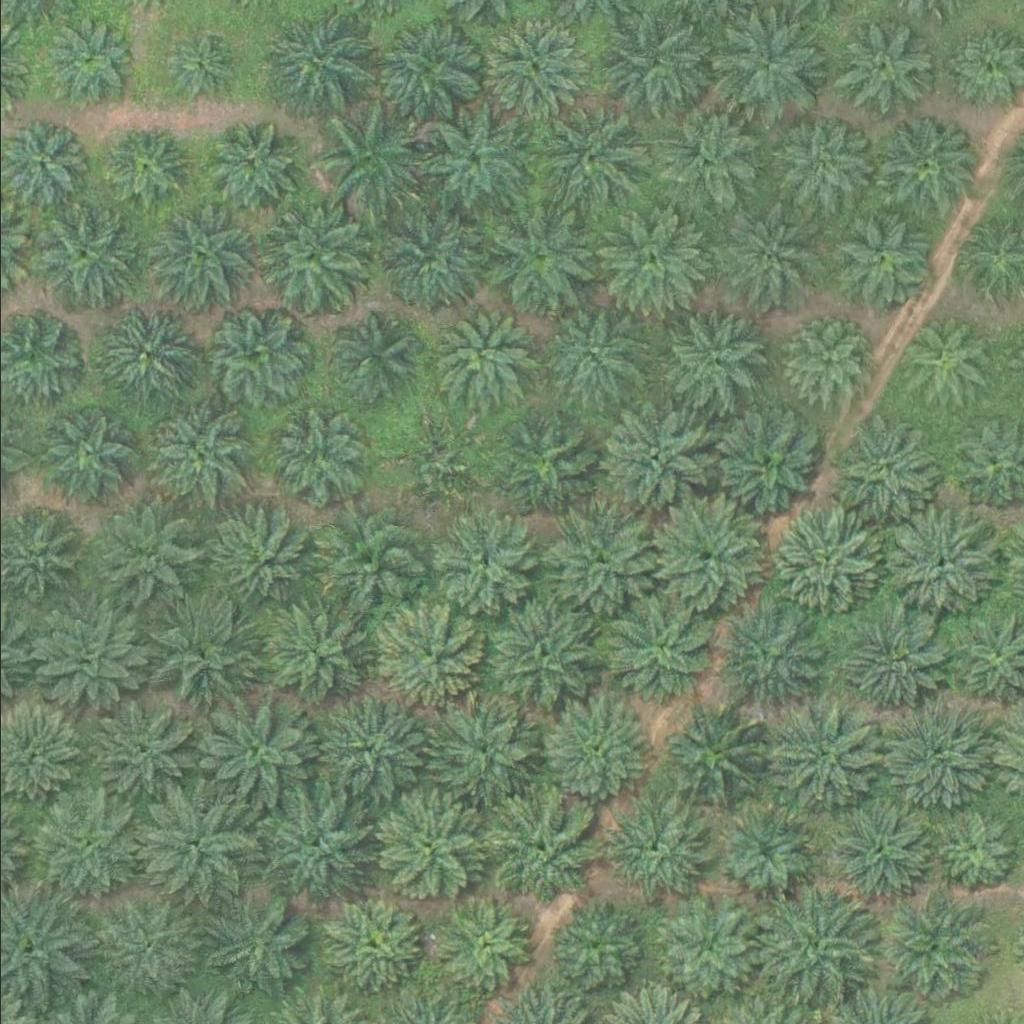Kelapa_Sawit: (654, 704, 768, 817), (829, 412, 943, 525), (368, 9, 482, 122), (602, 589, 716, 702), (536, 696, 650, 809), (483, 794, 597, 907), (372, 791, 486, 904), (200, 892, 314, 1005), (879, 700, 992, 813), (764, 701, 877, 814), (709, 404, 822, 517), (823, 202, 936, 315), (704, 11, 817, 124), (603, 10, 716, 123), (310, 102, 423, 215), (594, 403, 707, 516), (488, 406, 601, 519), (306, 504, 419, 617), (424, 692, 537, 805), (88, 889, 201, 1002), (257, 789, 370, 902), (135, 791, 248, 904), (33, 596, 146, 709), (257, 200, 370, 313), (145, 198, 258, 311), (30, 204, 143, 317), (714, 599, 828, 711), (883, 509, 997, 621), (762, 505, 876, 617), (875, 892, 988, 1004), (753, 891, 866, 1003), (817, 794, 930, 906), (832, 604, 945, 716), (710, 205, 823, 317), (866, 109, 979, 221), (534, 103, 647, 215), (419, 102, 532, 214), (595, 203, 708, 315), (480, 202, 593, 314), (369, 205, 482, 317), (648, 500, 761, 612), (544, 505, 657, 617), (426, 506, 539, 618), (485, 601, 598, 713), (370, 602, 483, 714), (317, 699, 430, 811), (29, 792, 142, 904), (198, 697, 311, 809), (87, 694, 200, 806), (254, 597, 367, 709), (139, 600, 252, 712), (139, 402, 252, 514), (712, 802, 813, 902), (770, 111, 871, 211), (837, 17, 938, 117), (484, 14, 585, 114), (659, 112, 760, 212), (665, 311, 766, 411), (540, 300, 641, 400), (420, 309, 521, 409), (323, 308, 424, 408), (657, 902, 758, 1002), (547, 903, 648, 1003), (207, 504, 308, 604), (94, 501, 195, 601), (268, 411, 369, 511), (34, 404, 135, 504), (204, 306, 305, 406), (99, 301, 200, 401), (269, 12, 370, 112), (897, 310, 997, 410), (608, 805, 708, 905), (433, 901, 533, 1001), (321, 897, 421, 997), (932, 806, 1020, 894), (204, 121, 292, 209), (98, 124, 186, 212), (45, 18, 133, 106), (388, 427, 477, 514), (782, 319, 870, 406), (160, 27, 236, 102)
